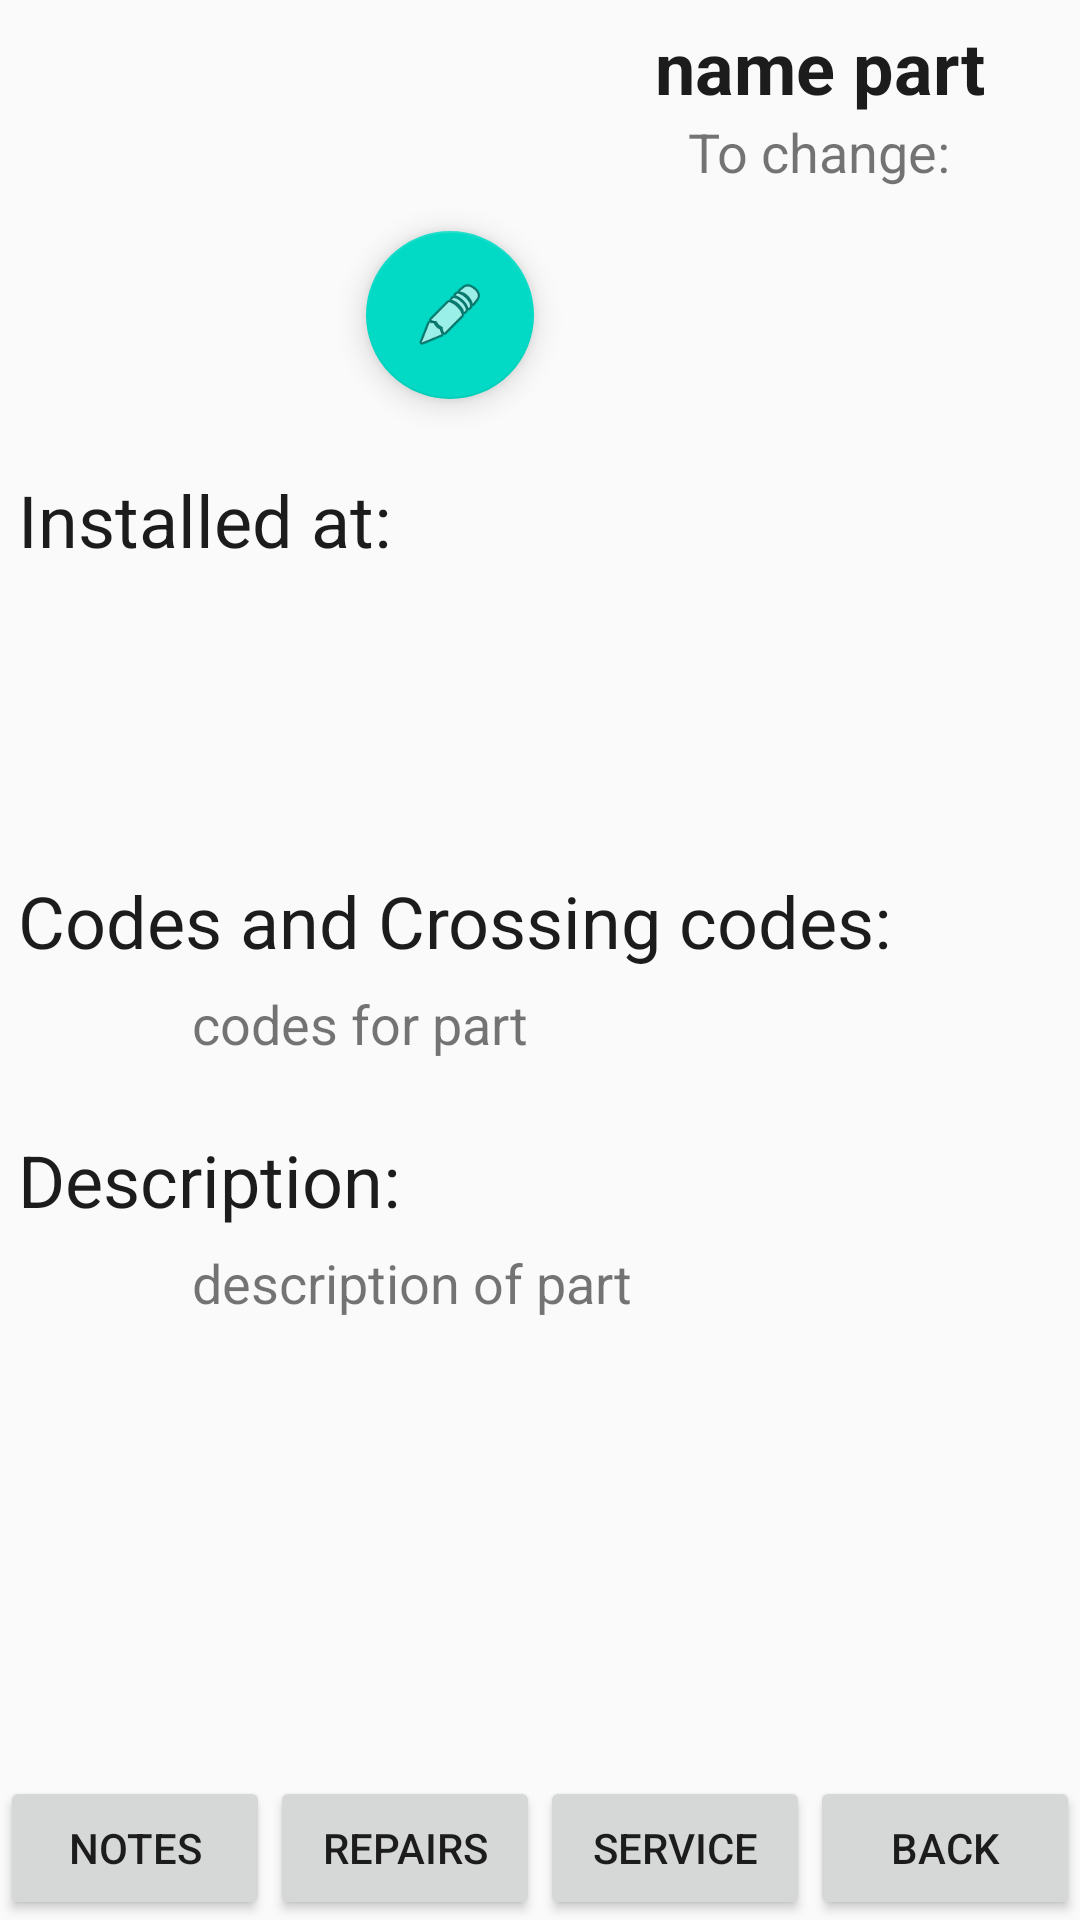

Named icons in this screenshot (1080 × 1920) and their centers, (x,y):
edit: (450,315)
